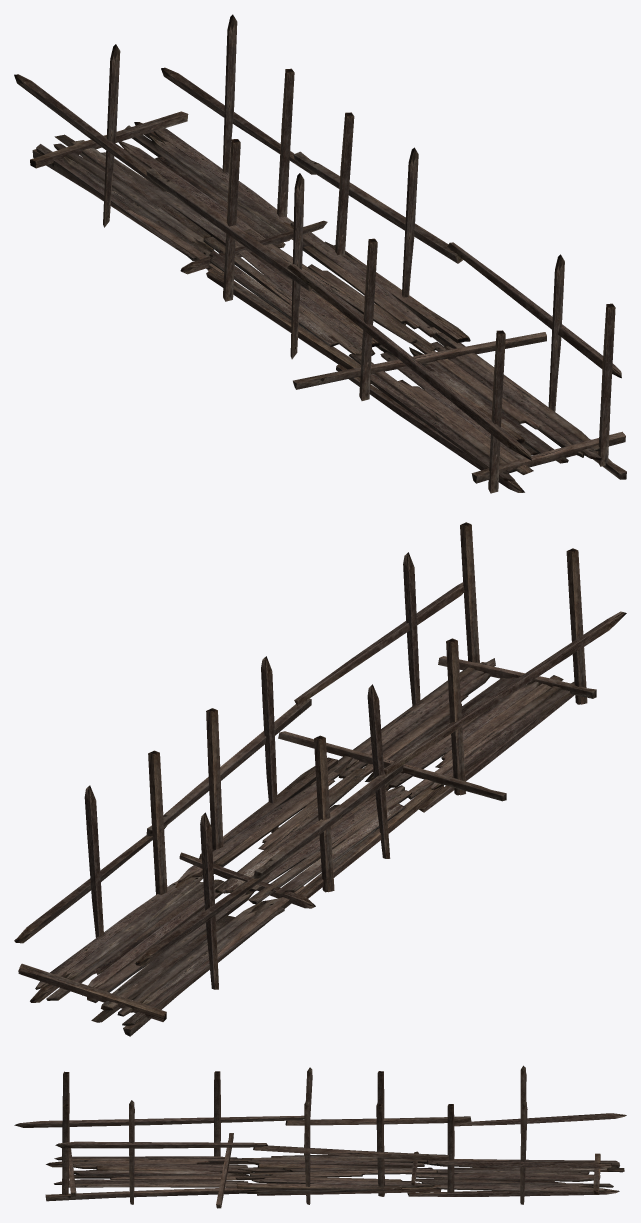
File: P_TowerBracket04.FBX
3 views of the same model, one above another, from view 1: azimuth 30°, elevation 25°; view 2: azimuth 150°, elevation 25°; view 3: azimuth 270°, elevation 25° (orthographic). The views are drawn at different scales.
Parts seen in each view (by area): view 1: P_TowerBracket04; view 2: P_TowerBracket04; view 3: P_TowerBracket04.
Boxes of the visible parts, left/top/right/bottom form: P_TowerBracket04: left=14, top=14, right=626, bottom=493; P_TowerBracket04: left=14, top=522, right=626, bottom=1036; P_TowerBracket04: left=14, top=1065, right=626, bottom=1208.
Size of the model in its own units: 2128 by 1512 by 7778.
